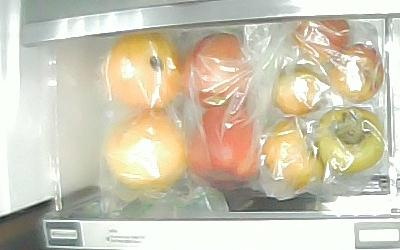apple_vinyl: (187, 107, 260, 190), (184, 32, 252, 108)
grapefruit_vinyl: (104, 112, 188, 191), (103, 31, 184, 109)
persimmon_vinyl: (315, 106, 385, 175), (262, 115, 323, 192)
prune_vinyl: (327, 44, 383, 102), (292, 19, 349, 64), (271, 66, 322, 115)
